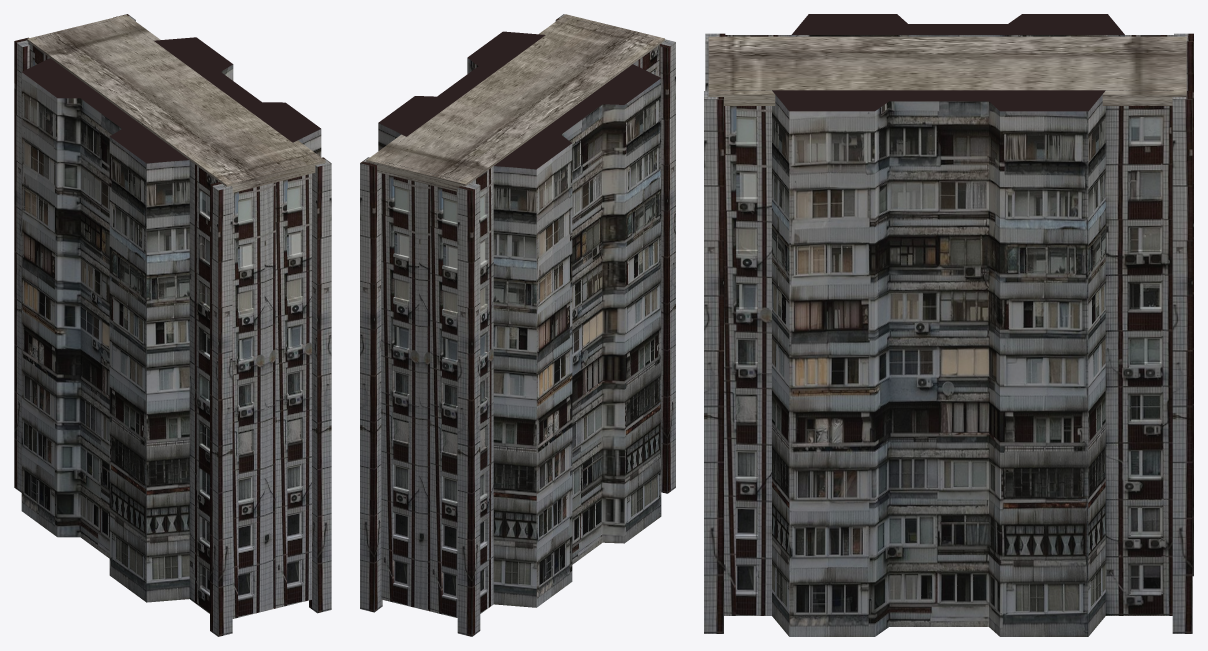
Rendered from building_tokyo_01.glb.
The picture shows the model from 3 angles, left to right: view 1: azimuth 30°, elevation 25°; view 2: azimuth 150°, elevation 25°; view 3: azimuth 270°, elevation 25°; orthographic projection. The views are drawn at different scales.
Visible parts, largest first — view 1: Cube.009; view 2: Cube.009; view 3: Cube.009.
Part boxes in pixels (x1=…): Cube.009: x1=14, y1=14, x2=331, y2=636; Cube.009: x1=360, y1=14, x2=675, y2=636; Cube.009: x1=704, y1=14, x2=1193, y2=636.
Bounding box in the file's own units: 0.8596 × 2.21 × 1.83.
3 materials, 3 textured.
